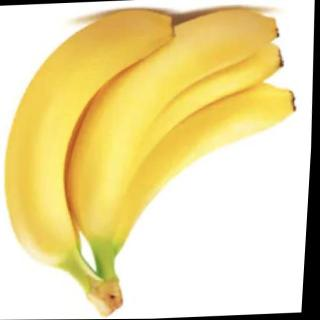banana: (58, 5, 290, 247), (0, 6, 185, 270), (97, 72, 306, 251)
